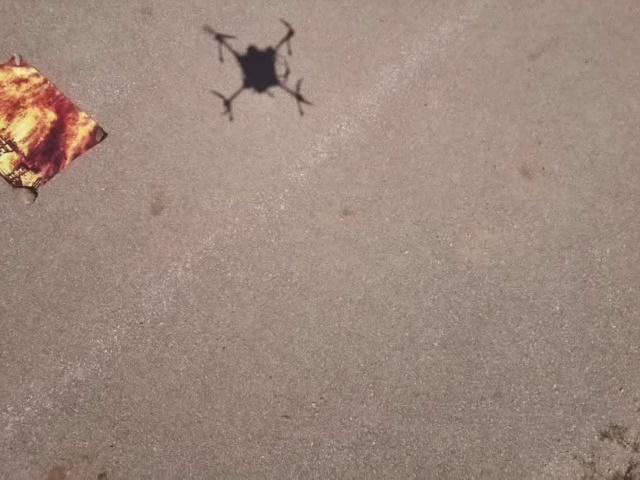fire-poster: (0, 51, 109, 204)
